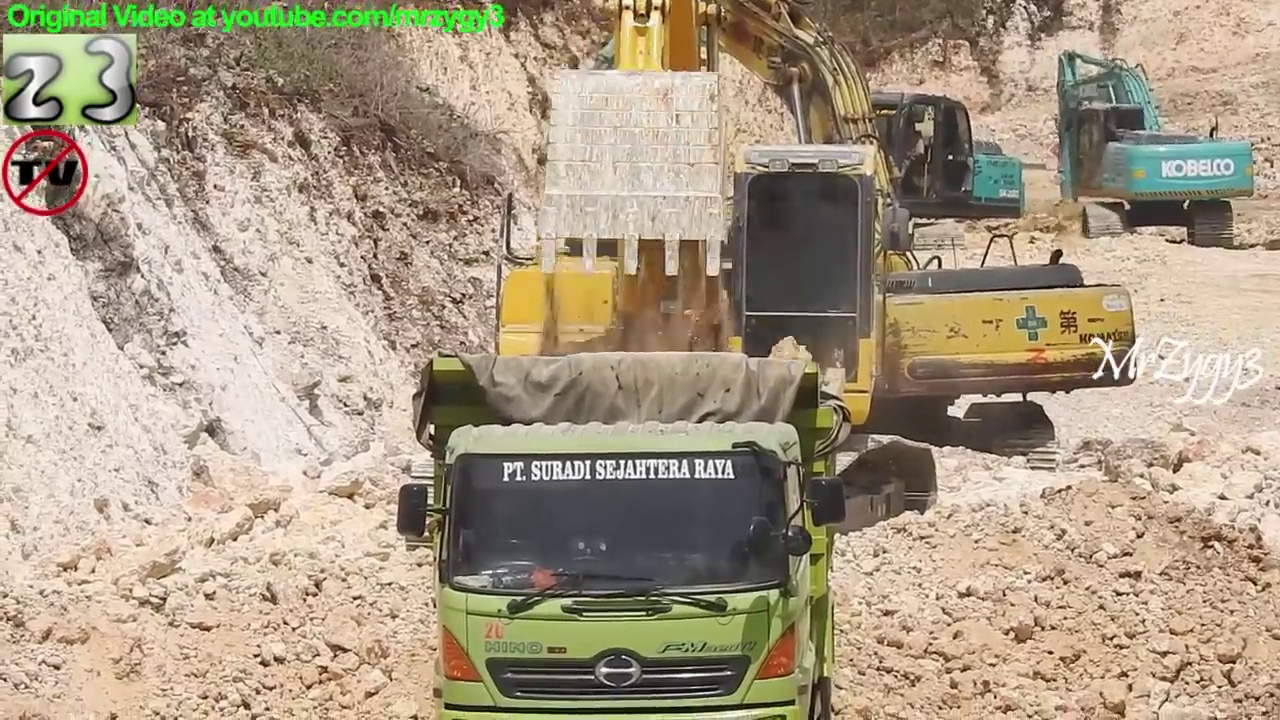excavator: (394, 1, 950, 572), (589, 1, 1146, 485), (544, 1, 1036, 264), (1046, 44, 1262, 254)
truck: (388, 347, 855, 720)
